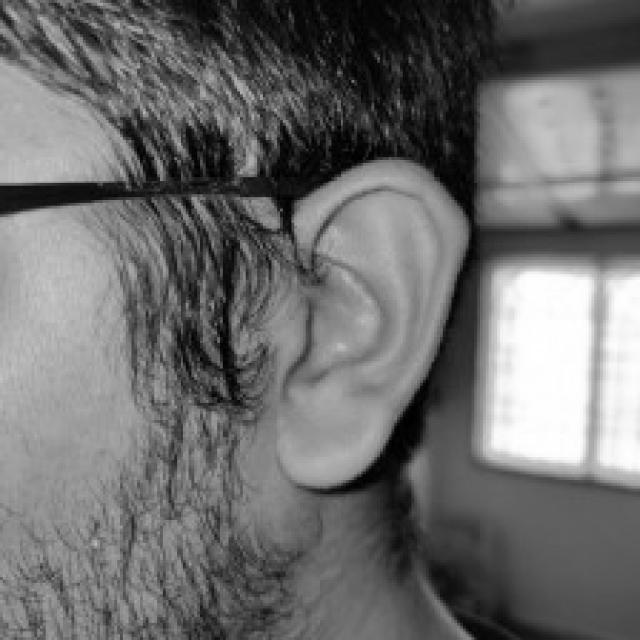ear: (277, 160, 466, 486)
